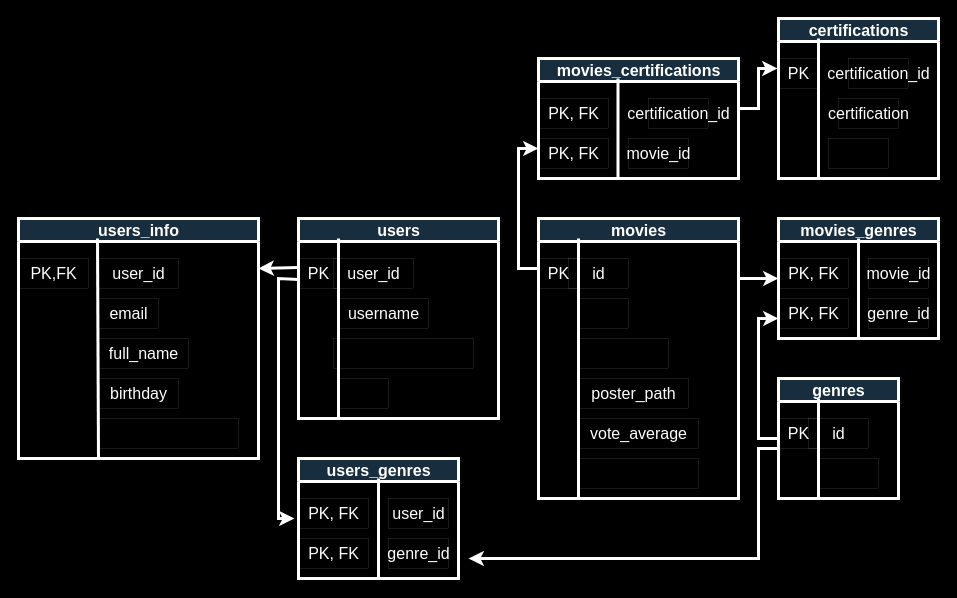
Image size: 957x598. Some labels were removed from this diagram. The shapes that lost their labels are listed below. From the top down, each one's centre as x and y in pixels, then its label:
(858,153): meaning
(603,313): title
(403,353): password_hash
(623,353): overview
(363,393): role
(168,433): nc17_requested
(638,473): do_not_show
(848,473): name
